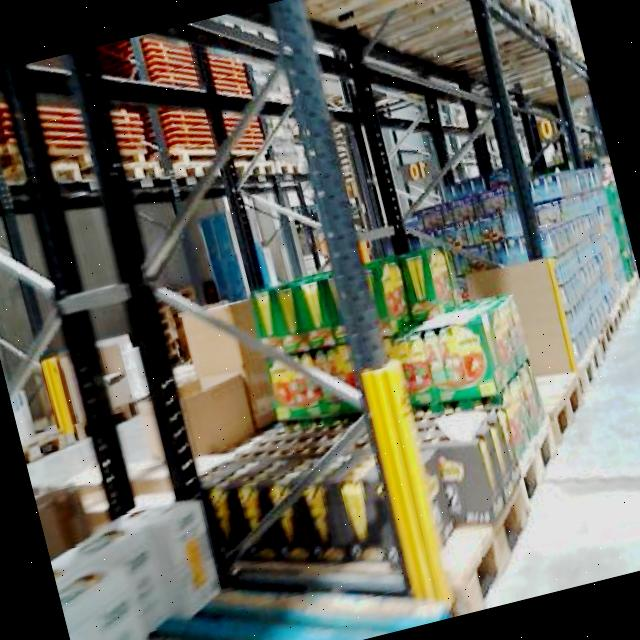ground: (16, 262, 640, 640)
pallet: (398, 155, 640, 419)
